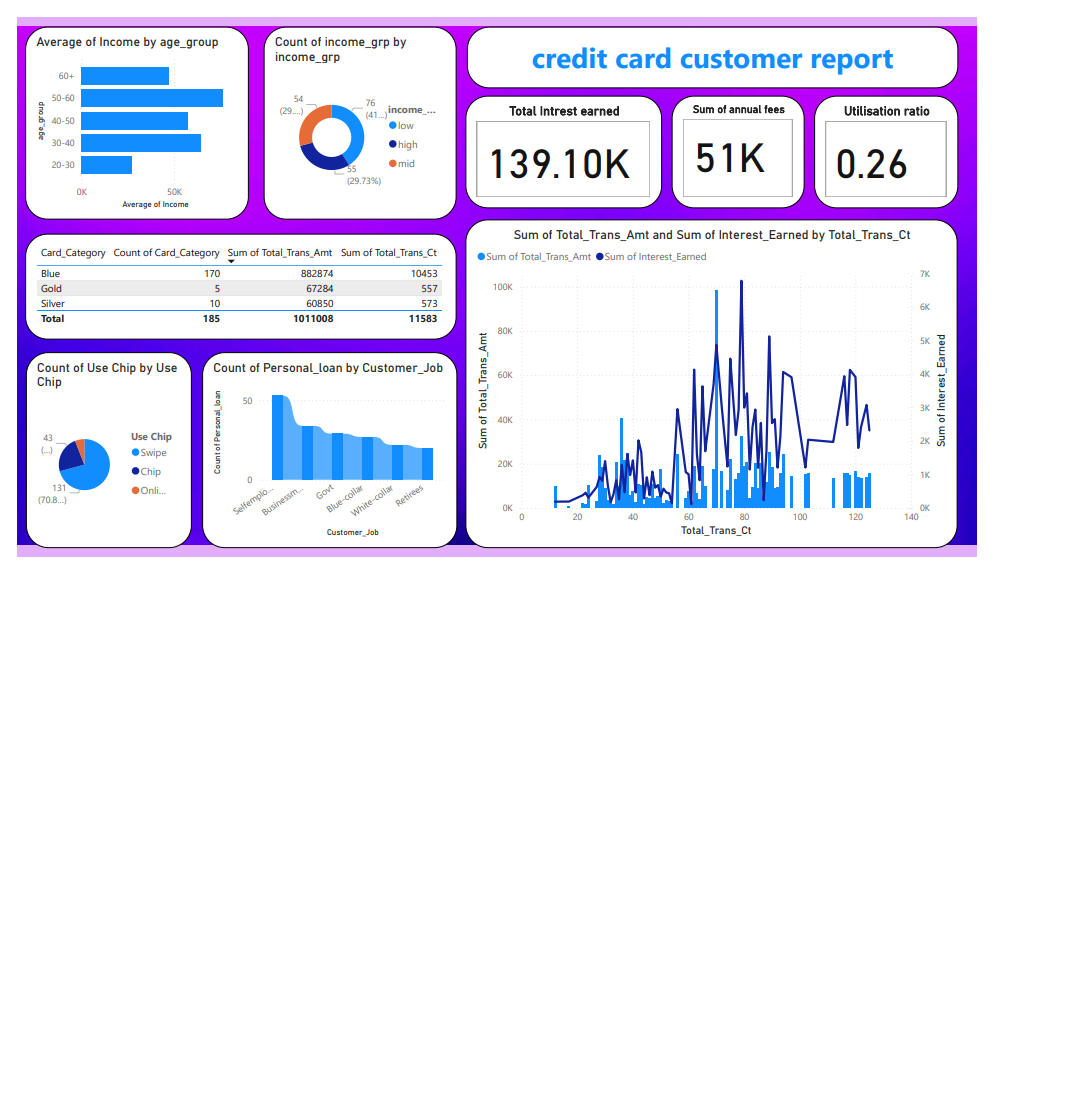

The dashboard page shown, as its layout file describes it:
{"tool":"powerbi","page":{"name":"Page 1","canvas":[1280,720],"ordinal":0},"visuals":[{"type":"clusteredBarChart","fields":{"Category":["cust_add.age_group"],"Y":["Avg(cust_add.Income)"]},"box":[11.4,12.9,297.1,257.1],"z":0},{"type":"donutChart","fields":{"Category":["cust_add.income_grp"],"Y":["CountNonNull(cust_add.income_grp)"]},"box":[328.6,12.9,257.1,257.1],"z":1000},{"type":"lineStackedColumnComboChart","fields":{"Y":["Sum(cc_add.Total_Trans_Amt)"],"Category":["cc_add.Total_Trans_Ct"],"Y2":["Sum(cc_add.Interest_Earned)"]},"box":[598,270,656,438],"z":2000},{"type":"cardVisual","title":"Total Intrest earned","fields":{"Data":["Sum(cc_add.Interest_Earned)"]},"box":[598.3,105,261.7,150],"z":3000},{"type":"cardVisual","title":"Sum of annual fees","fields":{"Data":["Sum(cc_add.Annual_Fees)"]},"box":[873.3,105,176.7,150],"z":4000},{"type":"cardVisual","title":"Utilisation ratio","fields":{"Data":["Avg(cc_add.Avg_Utilization_Ratio)"]},"box":[1063.3,105,191.7,150],"z":5000},{"type":"ribbonChart","fields":{"Category":["cust_add.Customer_Job"],"Y":["CountNonNull(cust_add.Personal_loan)"]},"box":[246.7,446.7,340,261.7],"z":6000},{"type":"pieChart","fields":{"Category":["cc_add.Use Chip"],"Y":["CountNonNull(cc_add.Use Chip)"]},"box":[11.7,446.7,221.7,261.7],"z":7000},{"type":"tableEx","fields":{"Values":["cc_add.Card_Category","CountNonNull(cc_add.Card_Category)","Sum(cc_add.Total_Trans_Amt)","Sum(cc_add.Total_Trans_Ct)"]},"box":[11.4,288.6,574.3,141.4],"z":8000},{"type":"textbox","box":[600,13.3,655,81.7],"z":9000}]}

Visuals, with their boxes on the page's 1280x720 design canvas (x1, y1, x2, y2). These are canvas units, not pixel positions in the 1086x1099 screenshot, which may show the page scaled, cropped or inside an application window:
clusteredBarChart - cust_add.age_group x Avg(cust_add.Income): <bbox>11, 13, 308, 270</bbox>
donutChart - cust_add.income_grp x CountNonNull(cust_add.income_grp): <bbox>329, 13, 586, 270</bbox>
lineStackedColumnComboChart - Sum(cc_add.Total_Trans_Amt) x cc_add.Total_Trans_Ct: <bbox>598, 270, 1254, 708</bbox>
"Total Intrest earned" cardVisual: <bbox>598, 105, 860, 255</bbox>
"Sum of annual fees" cardVisual: <bbox>873, 105, 1050, 255</bbox>
"Utilisation ratio" cardVisual: <bbox>1063, 105, 1255, 255</bbox>
ribbonChart - cust_add.Customer_Job x CountNonNull(cust_add.Personal_loan): <bbox>247, 447, 587, 708</bbox>
pieChart - cc_add.Use Chip x CountNonNull(cc_add.Use Chip): <bbox>12, 447, 233, 708</bbox>
tableEx - cc_add.Card_Category x CountNonNull(cc_add.Card_Category): <bbox>11, 289, 586, 430</bbox>
textbox: <bbox>600, 13, 1255, 95</bbox>
